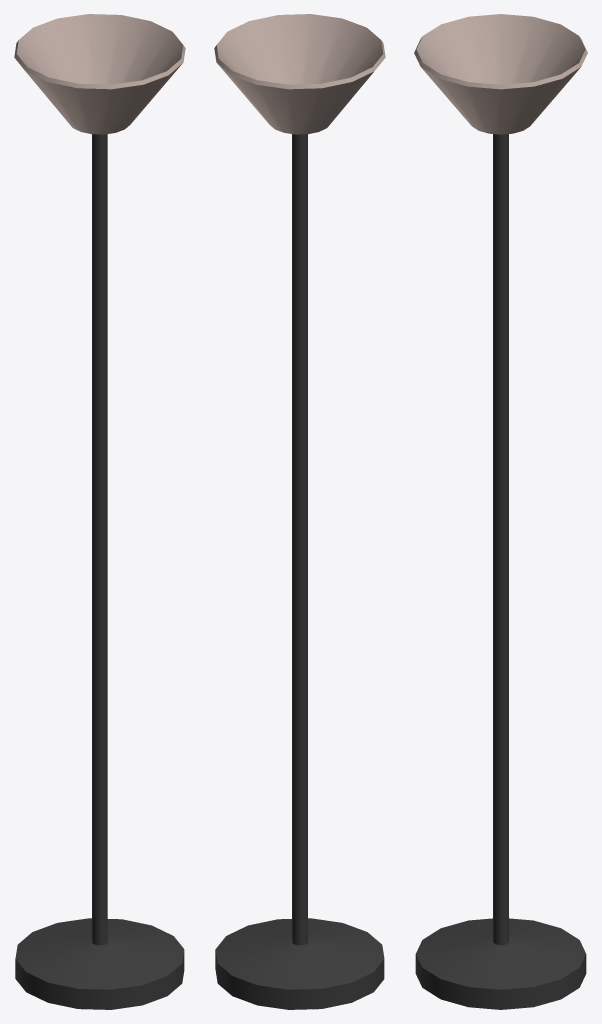
File: Lamp1.fbx
3 renders of one model, left to right at view 1: azimuth 30°, elevation 25°; view 2: azimuth 150°, elevation 25°; view 3: azimuth 270°, elevation 25°, orthographic.
Parts seen in each view (by area): view 1: Lamp1; view 2: Lamp1; view 3: Lamp1.
Part boxes in pixels (x1,y1,x2,y2): Lamp1: (14,14,185,1009); Lamp1: (214,14,385,1009); Lamp1: (414,14,587,1009).
Bounding box in the file's own units: 0.887 × 5.25 × 0.8947.
